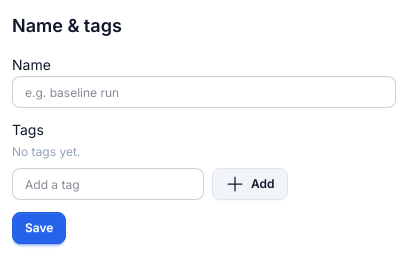
JobMetadataEditor › adds a tag when Enter is pressed
Type "urgent" into the field labelled "Add a tag" at (108, 184), box x1=12 y1=168 x2=204 y2=200
Then press Enter
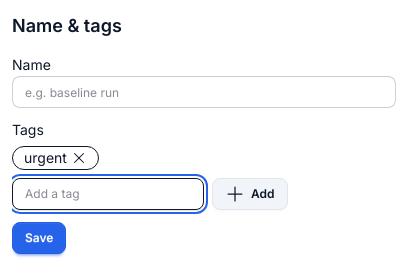
Result: the text "urgent" is shown at x1=12 y1=146 x2=99 y2=170
